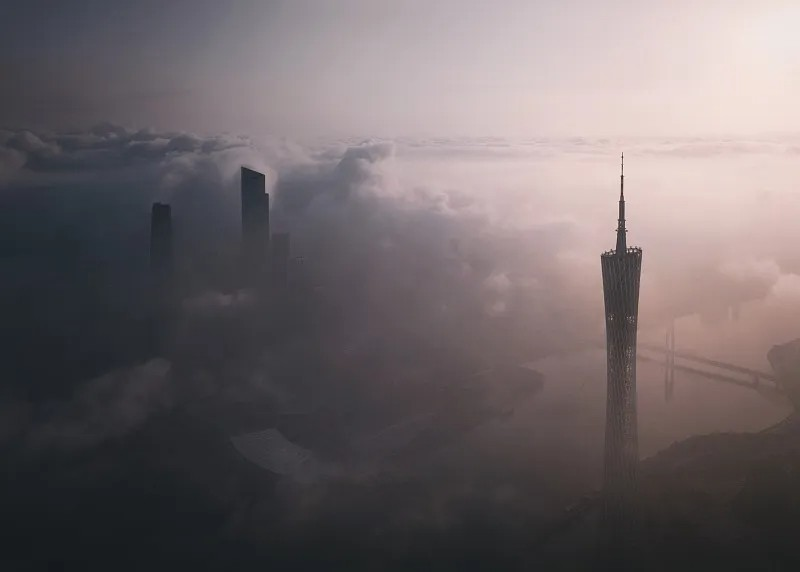Canton: (595, 150, 644, 568)
